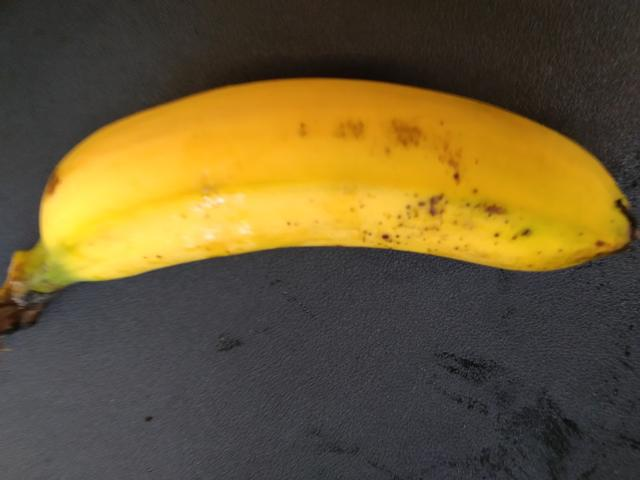ripe: (19, 74, 637, 304)
